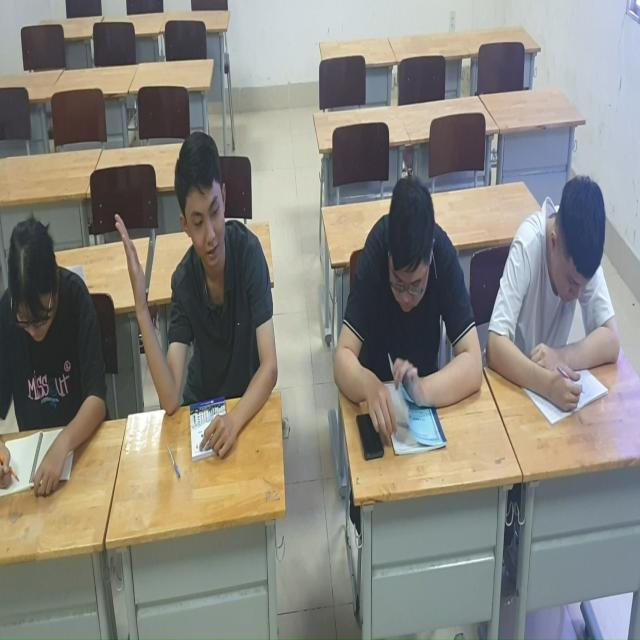read: (336, 166, 483, 486), (1, 187, 111, 529), (484, 165, 623, 429)
